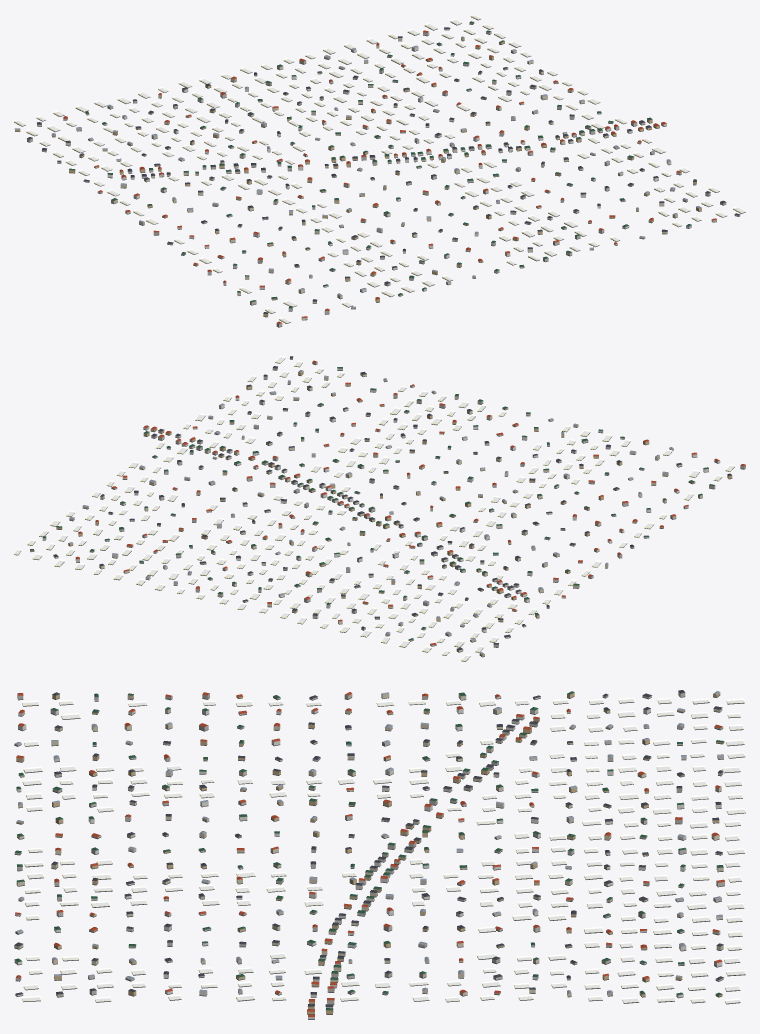
File: buildings_T_E05_S04.glb
3 views of the same model, one above another, from view 1: azimuth 30°, elevation 25°; view 2: azimuth 150°, elevation 25°; view 3: azimuth 270°, elevation 25° (orthographic). The views are drawn at different scales.
Visible parts, largest first — view 1: T_E05_S04_roofs_agri_greenhouse_arch, T_E05_S04_slope_seating_foundations, T_E05_S04_roofs_roof_slate_French_villa_hip, T_E05_S04_walls_wall_pastel_sand_gray, T_E05_S04_walls_wall_french_ochre_villa, T_E05_S04_walls_wall_dalat_cream_stucco, T_E05_S04_walls_wall_modern_warm_white, T_E05_S04_roofs_roof_pine_green_hip, T_E05_S04_roofs_roof_terracotta_gable, T_E05_S04_roofs_roof_zinc_silver_gable; view 2: T_E05_S04_roofs_agri_greenhouse_arch, T_E05_S04_slope_seating_foundations, T_E05_S04_walls_wall_dalat_cream_stucco, T_E05_S04_roofs_roof_slate_French_villa_hip, T_E05_S04_walls_wall_french_ochre_villa, T_E05_S04_walls_wall_pastel_sand_gray, T_E05_S04_walls_wall_modern_warm_white, T_E05_S04_roofs_roof_pine_green_hip, T_E05_S04_roofs_roof_terracotta_gable, T_E05_S04_roofs_roof_zinc_silver_gable; view 3: T_E05_S04_roofs_agri_greenhouse_arch, T_E05_S04_slope_seating_foundations, T_E05_S04_roofs_roof_slate_French_villa_hip, T_E05_S04_walls_wall_dalat_cream_stucco, T_E05_S04_walls_wall_french_ochre_villa, T_E05_S04_walls_wall_pastel_sand_gray, T_E05_S04_walls_wall_modern_warm_white, T_E05_S04_roofs_roof_pine_green_hip, T_E05_S04_roofs_roof_terracotta_gable, T_E05_S04_roofs_roof_zinc_silver_gable.
Part boxes in pixels (<box>): T_E05_S04_roofs_agri_greenhouse_arch: <box>14,14,745,323</box>; T_E05_S04_slope_seating_foundations: <box>14,16,745,327</box>; T_E05_S04_roofs_roof_slate_French_villa_hip: <box>27,27,740,313</box>; T_E05_S04_walls_wall_pastel_sand_gray: <box>27,44,726,326</box>; T_E05_S04_walls_wall_french_ochre_villa: <box>15,22,701,316</box>; T_E05_S04_walls_wall_dalat_cream_stucco: <box>37,38,677,303</box>; T_E05_S04_walls_wall_modern_warm_white: <box>42,28,740,319</box>; T_E05_S04_roofs_roof_pine_green_hip: <box>69,21,691,308</box>; T_E05_S04_roofs_roof_terracotta_gable: <box>63,30,716,324</box>; T_E05_S04_roofs_roof_zinc_silver_gable: <box>14,36,701,307</box>; T_E05_S04_roofs_agri_greenhouse_arch: <box>14,356,734,661</box>; T_E05_S04_slope_seating_foundations: <box>14,358,745,661</box>; T_E05_S04_walls_wall_dalat_cream_stucco: <box>82,373,702,652</box>; T_E05_S04_roofs_roof_slate_French_villa_hip: <box>53,356,731,650</box>; T_E05_S04_walls_wall_french_ochre_villa: <box>30,371,732,656</box>; T_E05_S04_walls_wall_pastel_sand_gray: <box>69,362,745,647</box>; T_E05_S04_walls_wall_modern_warm_white: <box>42,358,720,638</box>; T_E05_S04_roofs_roof_pine_green_hip: <box>30,367,714,640</box>; T_E05_S04_roofs_roof_terracotta_gable: <box>75,360,745,645</box>; T_E05_S04_roofs_roof_zinc_silver_gable: <box>69,370,673,654</box>; T_E05_S04_roofs_agri_greenhouse_arch: <box>22,697,745,1003</box>; T_E05_S04_slope_seating_foundations: <box>14,695,745,1019</box>; T_E05_S04_roofs_roof_slate_French_villa_hip: <box>14,690,723,1006</box>; T_E05_S04_walls_wall_dalat_cream_stucco: <box>14,693,723,996</box>; T_E05_S04_walls_wall_french_ochre_villa: <box>16,692,724,1014</box>; T_E05_S04_walls_wall_pastel_sand_gray: <box>14,691,724,1008</box>; T_E05_S04_walls_wall_modern_warm_white: <box>14,695,723,1019</box>; T_E05_S04_roofs_roof_pine_green_hip: <box>14,691,723,1010</box>; T_E05_S04_roofs_roof_terracotta_gable: <box>15,692,724,1016</box>; T_E05_S04_roofs_roof_zinc_silver_gable: <box>14,691,723,993</box>.
Bounding box in the file's own units: 1831 × 29.48 × 1755.
